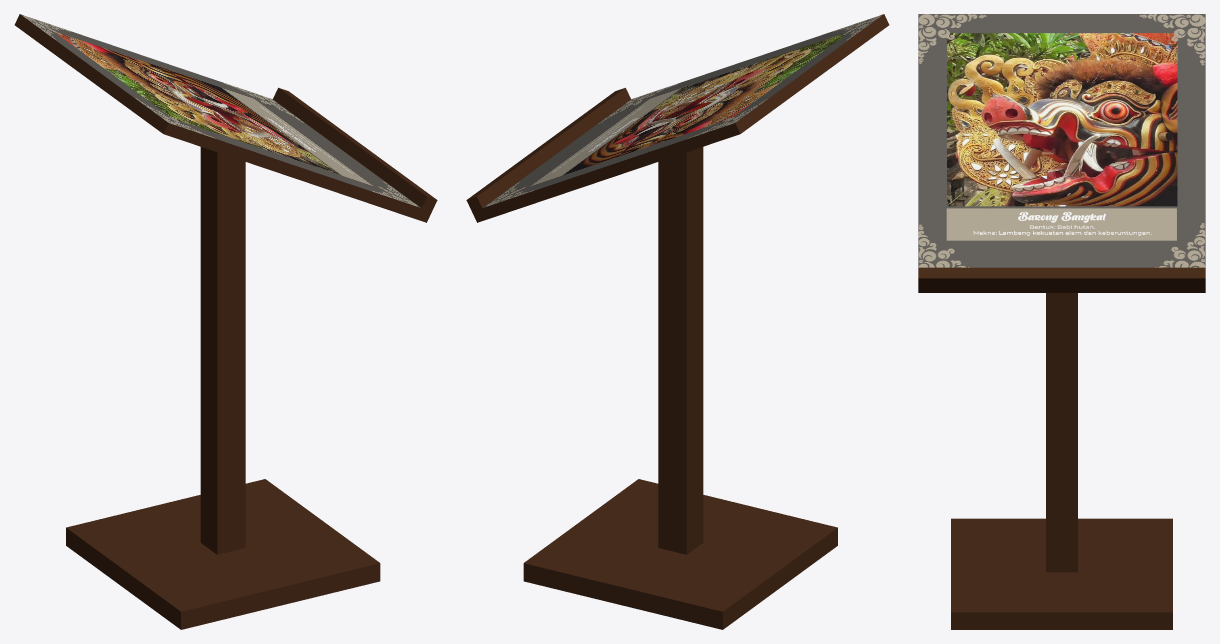
File: Barong Bangkal.glb
3 renders of one model, left to right at view 1: azimuth 30°, elevation 25°; view 2: azimuth 150°, elevation 25°; view 3: azimuth 270°, elevation 25°, orthographic. The views are drawn at different scales.
Visible parts, largest first — view 1: Cube.001, Cube.002, Cube; view 2: Cube.001, Cube.002, Cube; view 3: Cube.002, Cube.001, Cube.
Boxes of the visible parts, <box> form: Cube.001: <box>66,479,380,629</box>; Cube.002: <box>14,14,437,222</box>; Cube: <box>200,147,245,554</box>; Cube.001: <box>523,479,837,629</box>; Cube.002: <box>466,14,889,222</box>; Cube: <box>658,147,703,554</box>; Cube.002: <box>918,14,1205,292</box>; Cube.001: <box>951,518,1172,629</box>; Cube: <box>1046,293,1077,572</box>.
Bounding box in the file's own units: 0.6504 × 1.19 × 0.6117.
Materials: 2 (1 with a texture image).
